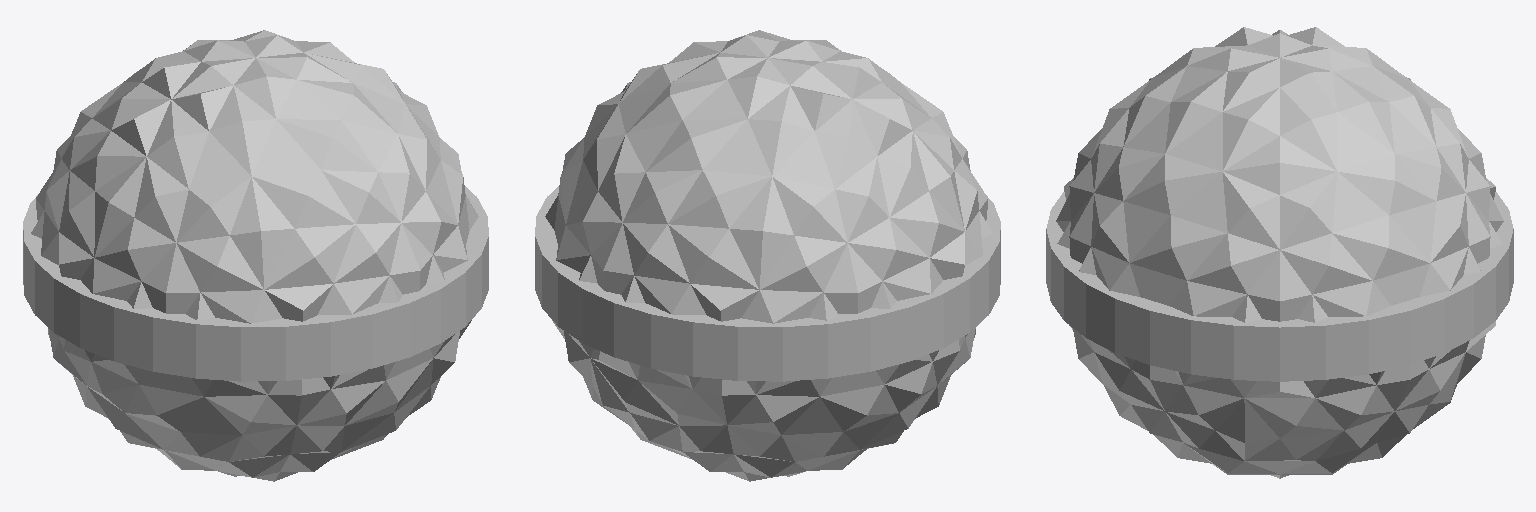
Rendered from real_real_bounce_ball.obj.
3 views of the same model, side by side, from view 1: azimuth 30°, elevation 25°; view 2: azimuth 150°, elevation 25°; view 3: azimuth 270°, elevation 25° (orthographic).
Parts seen in each view (by area): view 1: Icosphere.001; view 2: Icosphere.001; view 3: Icosphere.001.
Boxes of the visible parts, box(x1,y1,x2,y2) form: Icosphere.001: box(23, 30, 488, 481); Icosphere.001: box(535, 30, 1000, 481); Icosphere.001: box(1046, 27, 1513, 478).
Bounding box in the file's own units: 2.14 × 2.03 × 2.14.